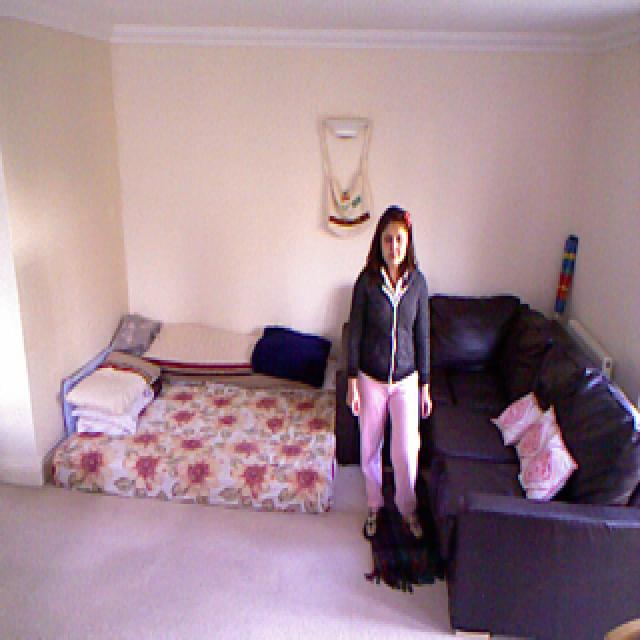standing: (344, 203, 432, 542)
